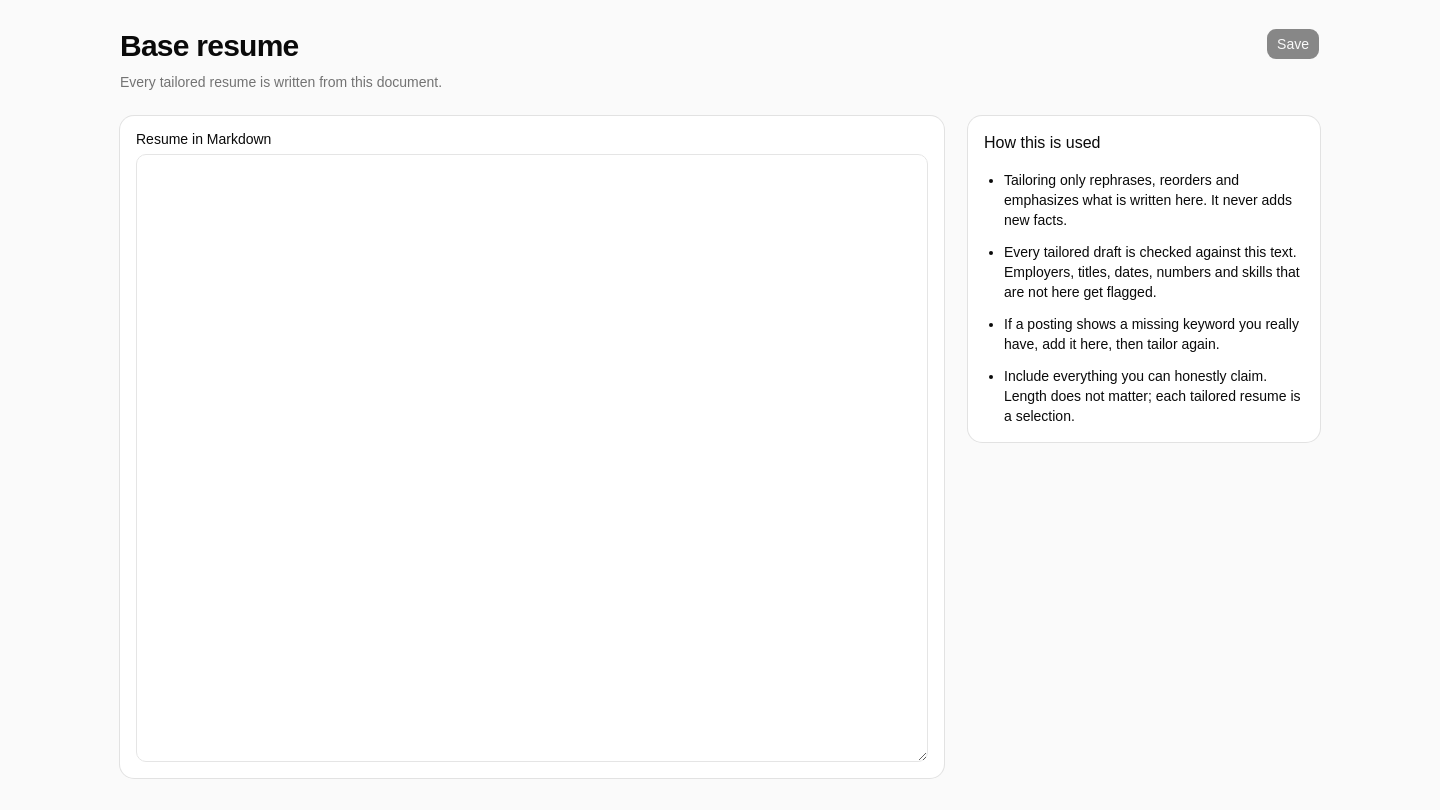
saving › enables Save once there is text
(page scrolled)
Expected: the text "How this is used" is shown, x1=984 y1=134 x2=1100 y2=151
Type "something" into the text box labelled "Resume in Markdown" at point(532, 458), box x1=136 y1=154 x2=928 y2=762
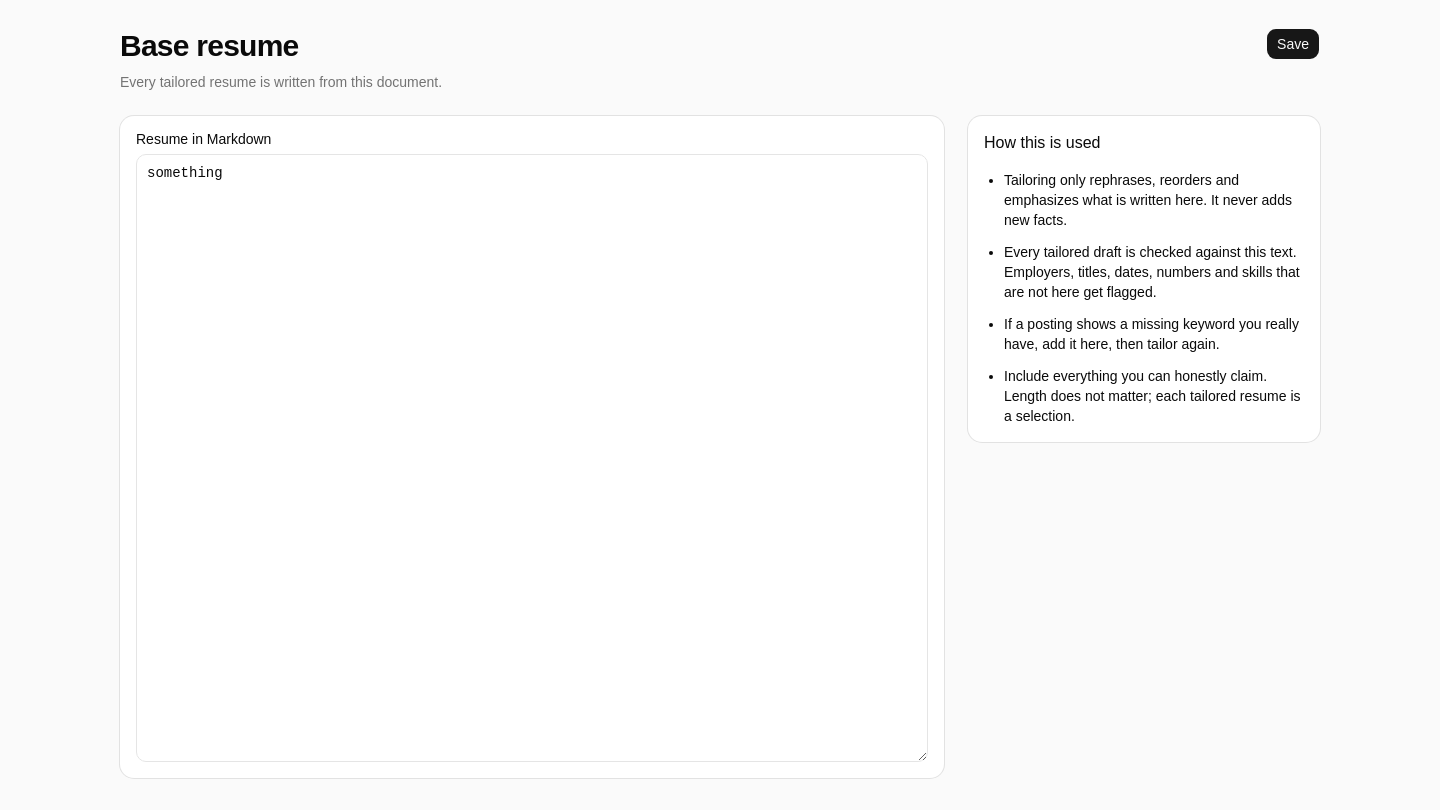
Result: the button "Save" is enabled at x1=1266 y1=28 x2=1320 y2=60
